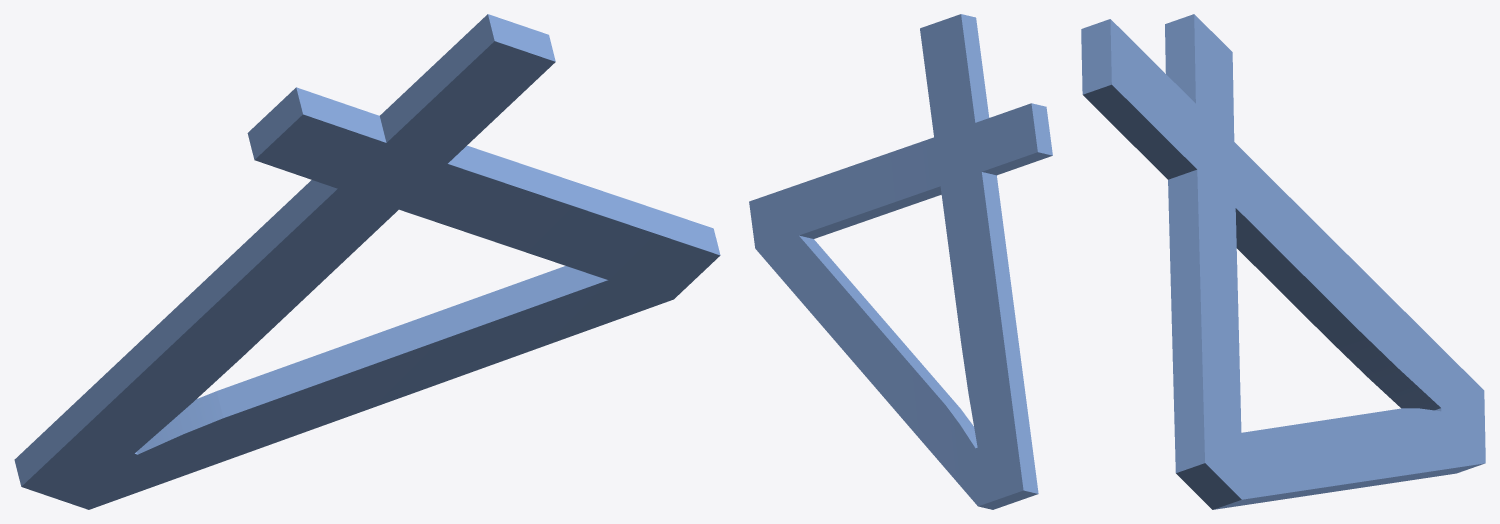
File: New_Number_4.gltf
3 renders of one model, left to right at view 1: azimuth 30°, elevation 25°; view 2: azimuth 150°, elevation 25°; view 3: azimuth 270°, elevation 25°, orthographic. The views are drawn at different scales.
Parts seen in each view (by area): view 1: Part 40; view 2: Part 40; view 3: Part 40.
Part boxes in pixels (x1,y1,x2,y2): Part 40: (14,14,720,509); Part 40: (749,14,1052,509); Part 40: (1081,14,1485,509).
Size of the model in its own units: 0.00476 by 0.00458 by 0.00299.
